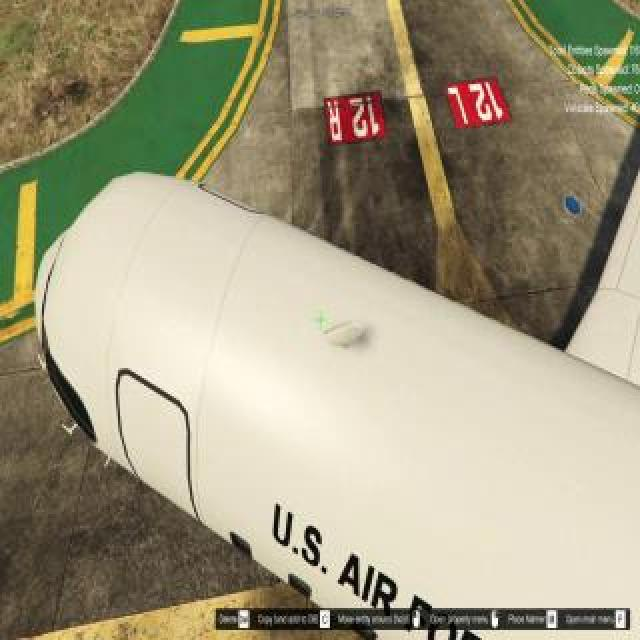dent: (321, 323, 379, 353)
